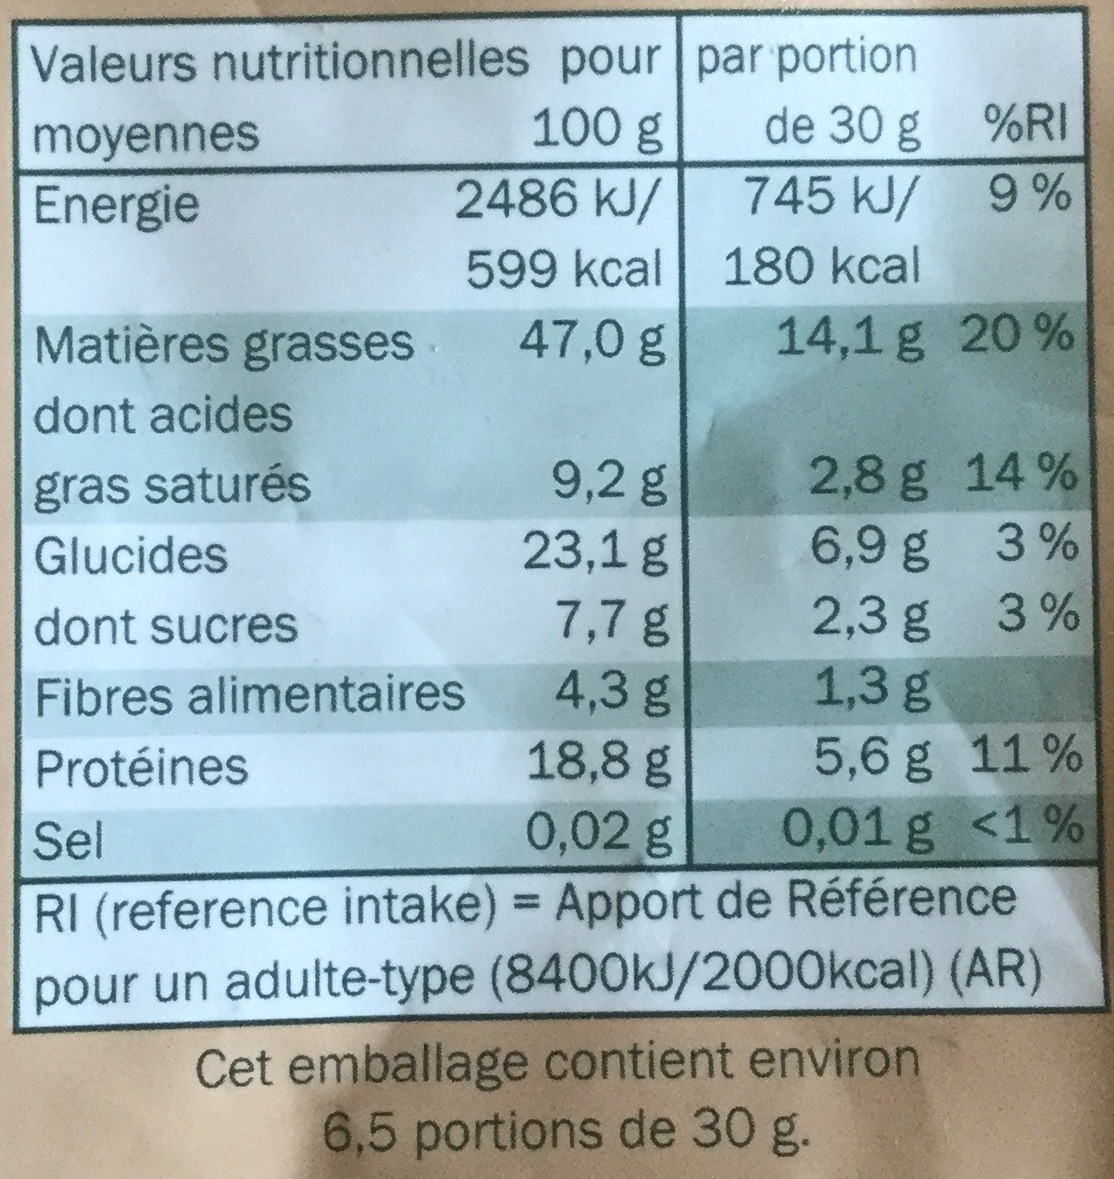column: (700, 34, 1082, 858), (32, 175, 448, 866), (458, 178, 674, 861)
table: (12, 17, 1114, 881)
